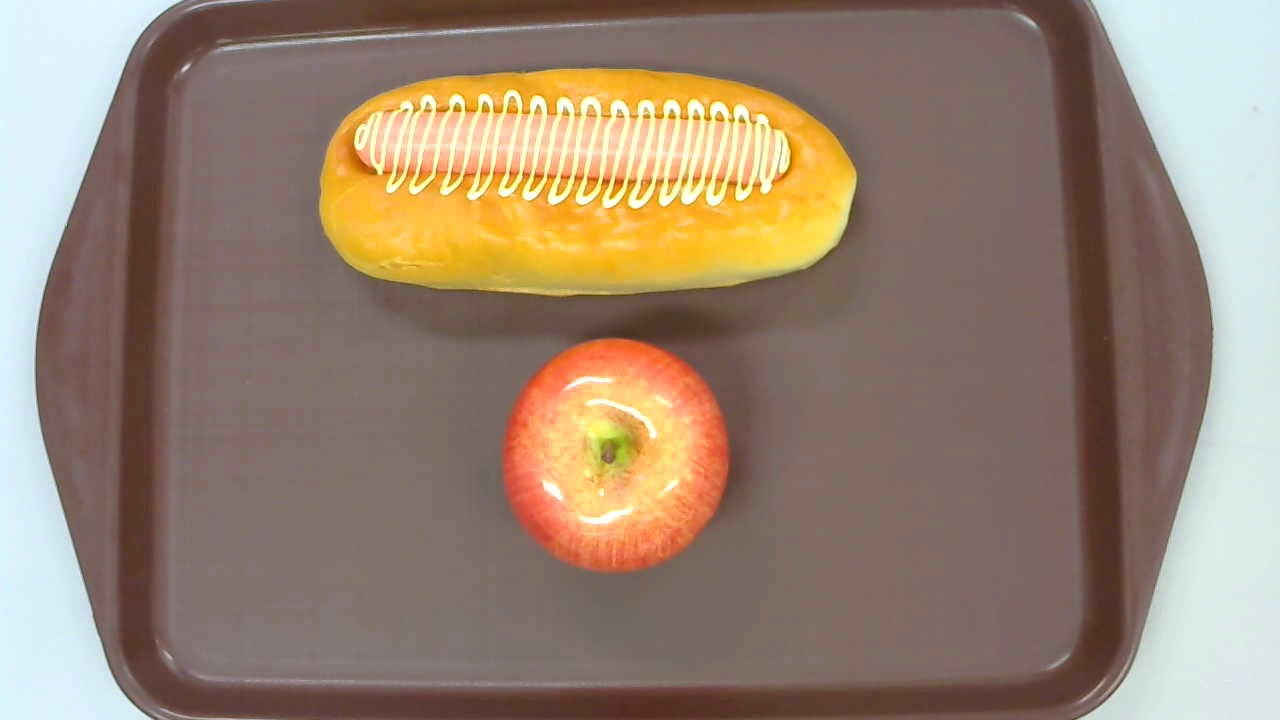hot dog: (318, 67, 857, 299)
red apple: (502, 337, 730, 576)
